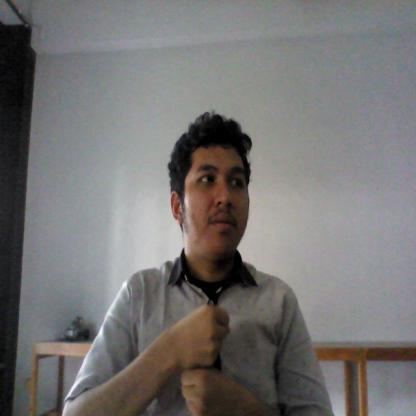G: (164, 303, 240, 416)
